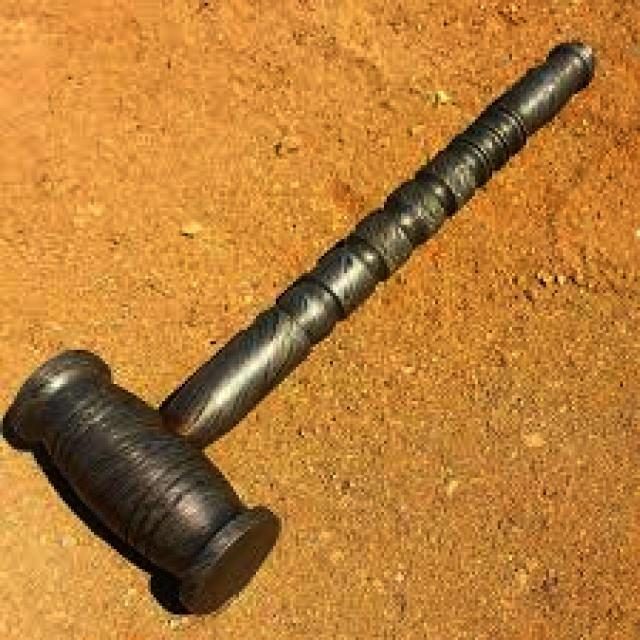hammer: (2, 17, 600, 620)
